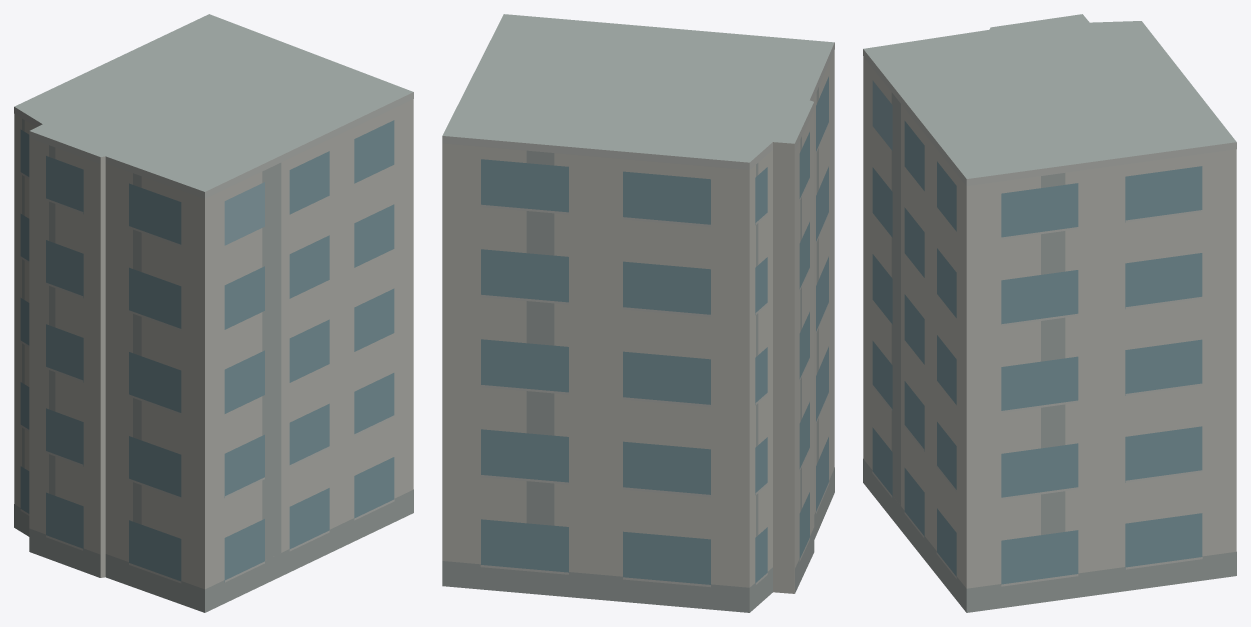
The model's file is survey-upis-32465293.glb.
3 views of the same model, side by side, from view 1: azimuth 30°, elevation 25°; view 2: azimuth 150°, elevation 25°; view 3: azimuth 270°, elevation 25° (orthographic). The views are drawn at different scales.
Visible parts, largest first — view 1: survey-upis-32465293.tmp; view 2: survey-upis-32465293.tmp; view 3: survey-upis-32465293.tmp.
Boxes of the visible parts, x1,y1,x2,y2 form: survey-upis-32465293.tmp: [14, 14, 413, 612]; survey-upis-32465293.tmp: [442, 14, 834, 612]; survey-upis-32465293.tmp: [863, 14, 1236, 612].
Size of the model in its own units: 12.01 by 14.7 by 11.49.
